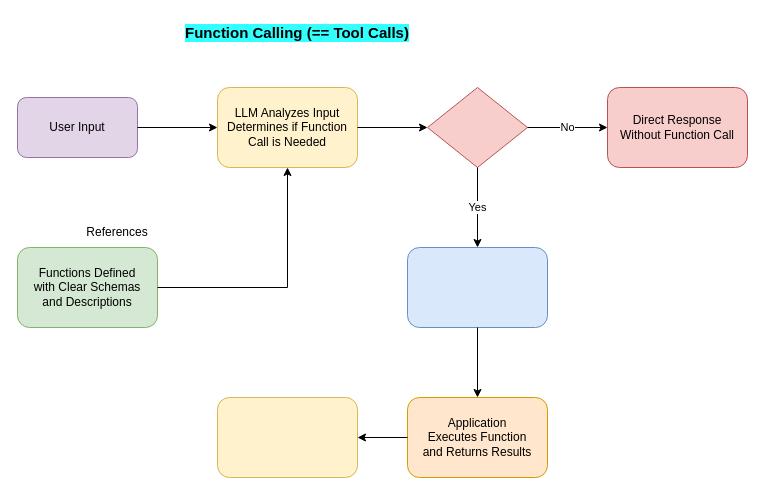
This 765x495 diagram has some shape labels left out. The shapes that lost their labels are listed below. From the top down, each one's centre as x and y in pixels, then its label:
At (477,127): "Function Call Needed?".
At (477,287): "Returns Structured JSON with Function Name and Parameters".
At (287,437): "LLM Incorporates Results into Final Response".
